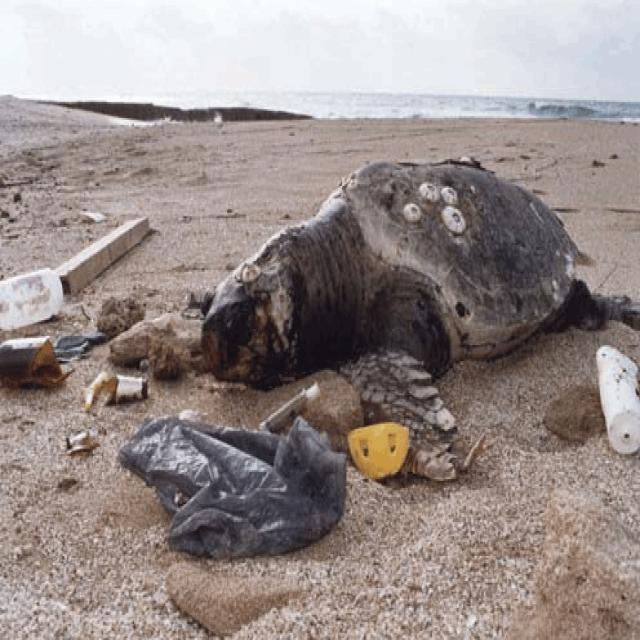garbage: (110, 395, 358, 576)
